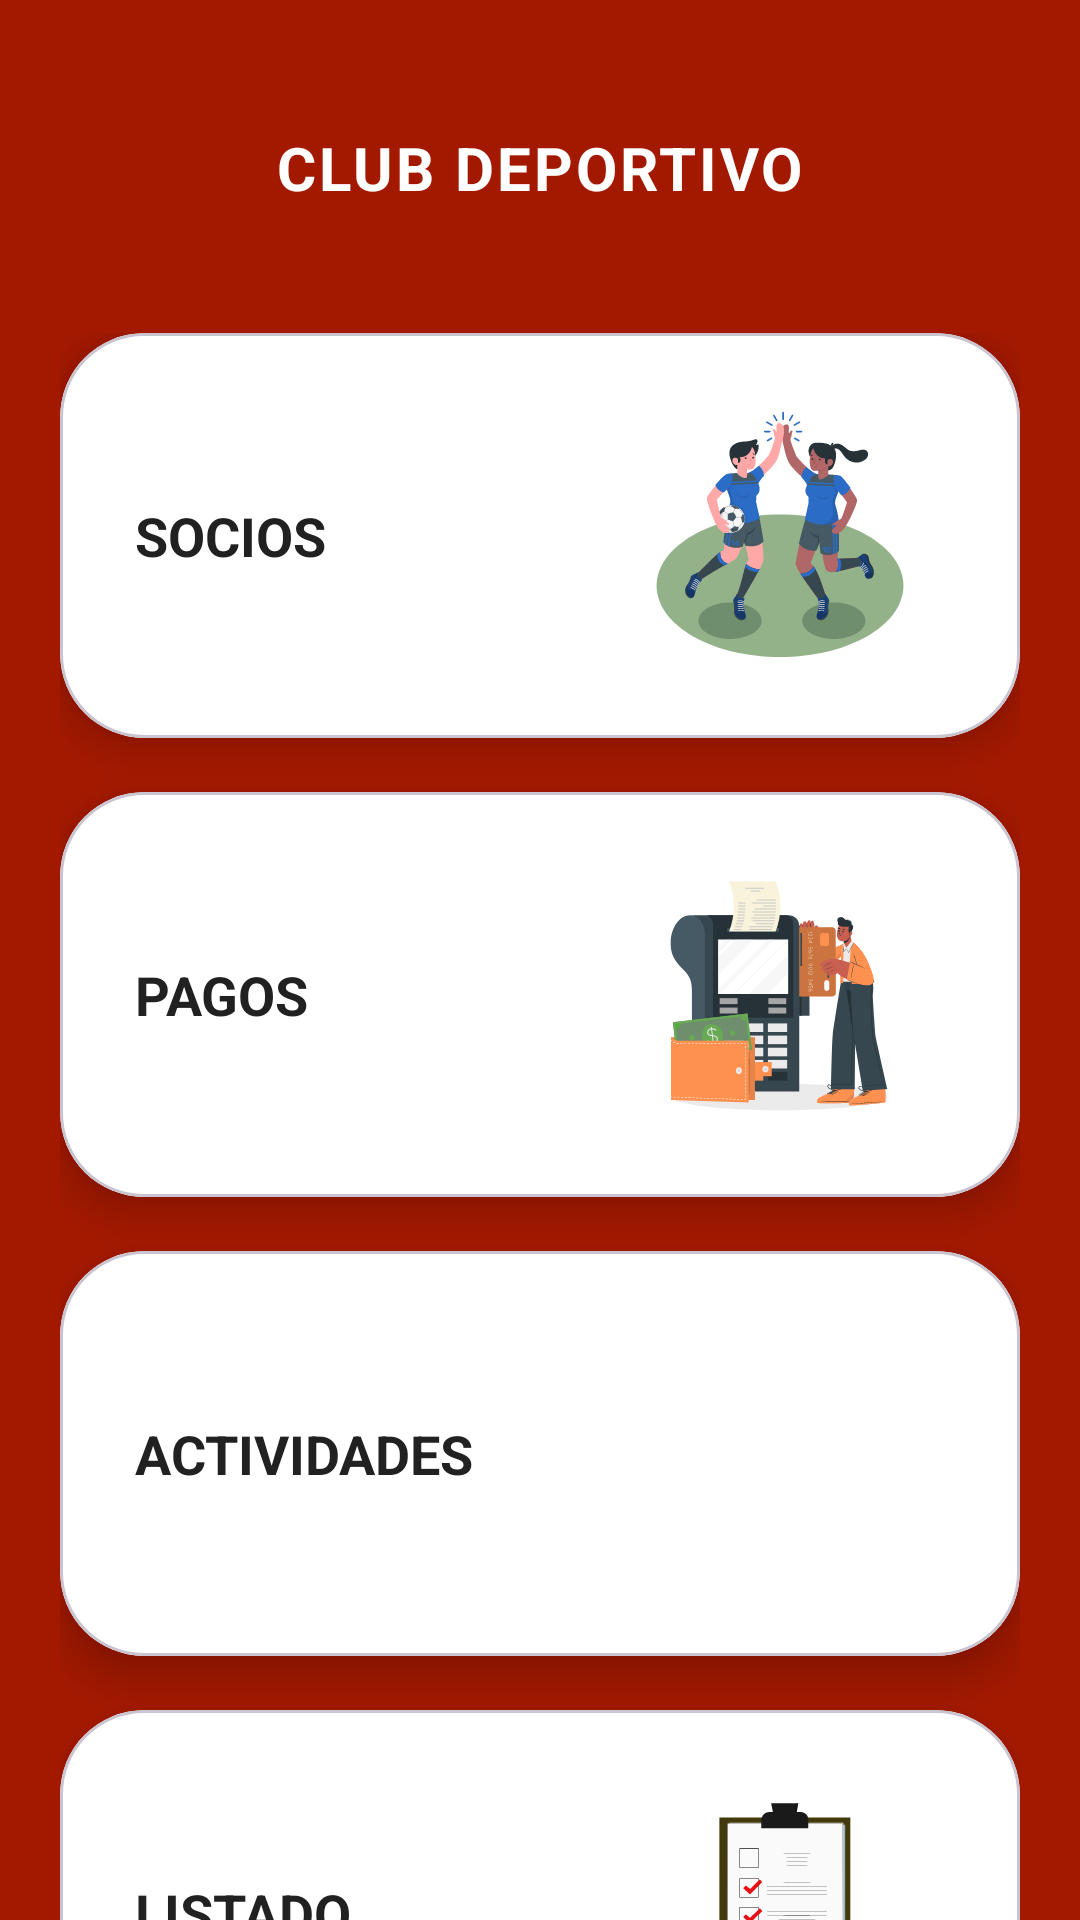

Screen size 1080x1920. Icon name, then its center in pixels as (x,y):
pago: (778,993)
socio: (780,534)
